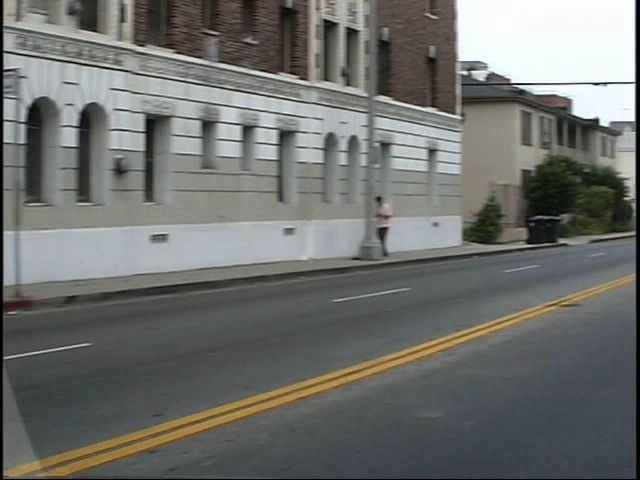person: (392, 190, 415, 257)
